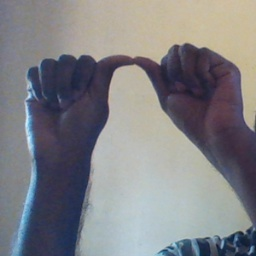A: (19, 43, 248, 163)
